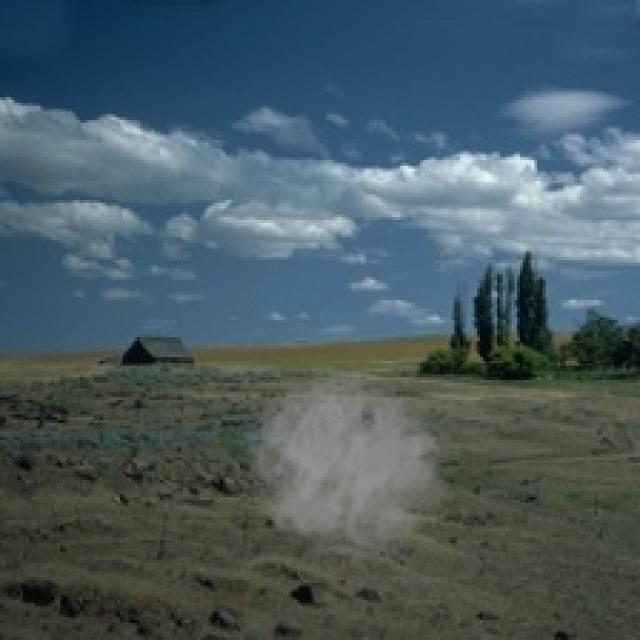smoke: (243, 369, 460, 574)
